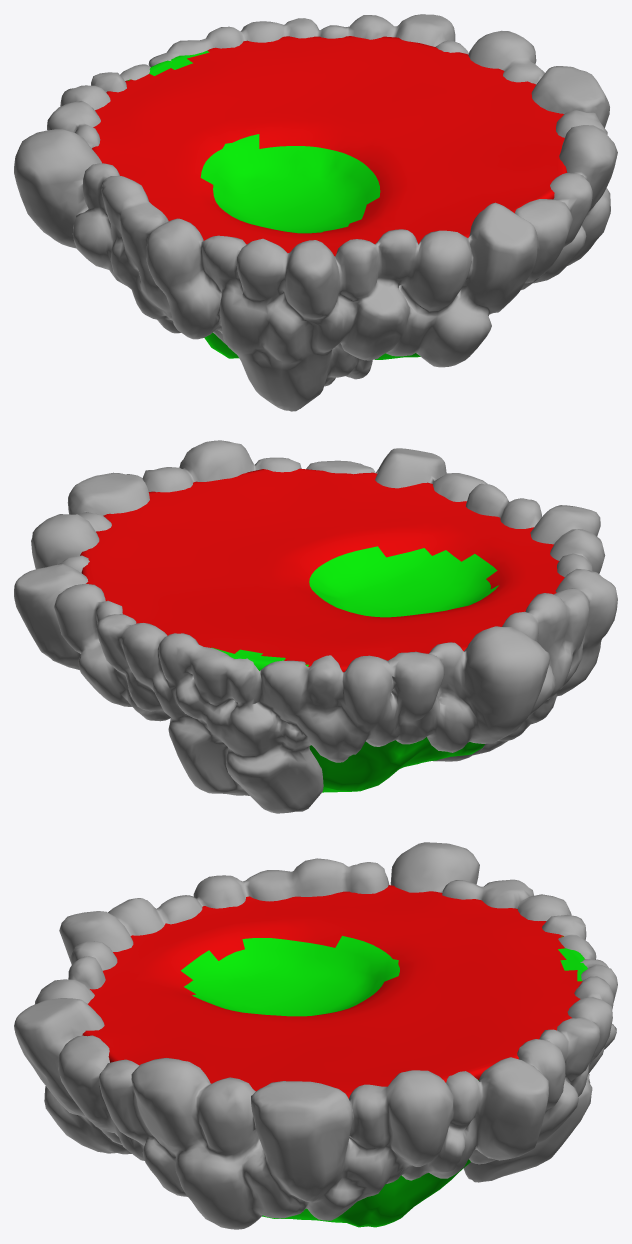
File: BigIslandPond_low.fbx
3 renders of one model, top to bottom at view 1: azimuth 30°, elevation 25°; view 2: azimuth 150°, elevation 25°; view 3: azimuth 270°, elevation 25°, orthographic. The views are drawn at different scales.
Visible parts, largest first — view 1: PM3D_PolySphere3, PM3D_PolySphere1; view 2: PM3D_PolySphere3, PM3D_PolySphere1; view 3: PM3D_PolySphere3, PM3D_PolySphere1.
Part boxes in pixels (bbox=[...]): PM3D_PolySphere3: bbox=[14, 14, 617, 411]; PM3D_PolySphere1: bbox=[92, 36, 567, 359]; PM3D_PolySphere3: bbox=[14, 440, 617, 813]; PM3D_PolySphere1: bbox=[80, 468, 564, 792]; PM3D_PolySphere3: bbox=[14, 842, 617, 1229]; PM3D_PolySphere1: bbox=[82, 885, 587, 1227].
Size of the model in its own units: 4.68 by 2.02 by 4.38.
